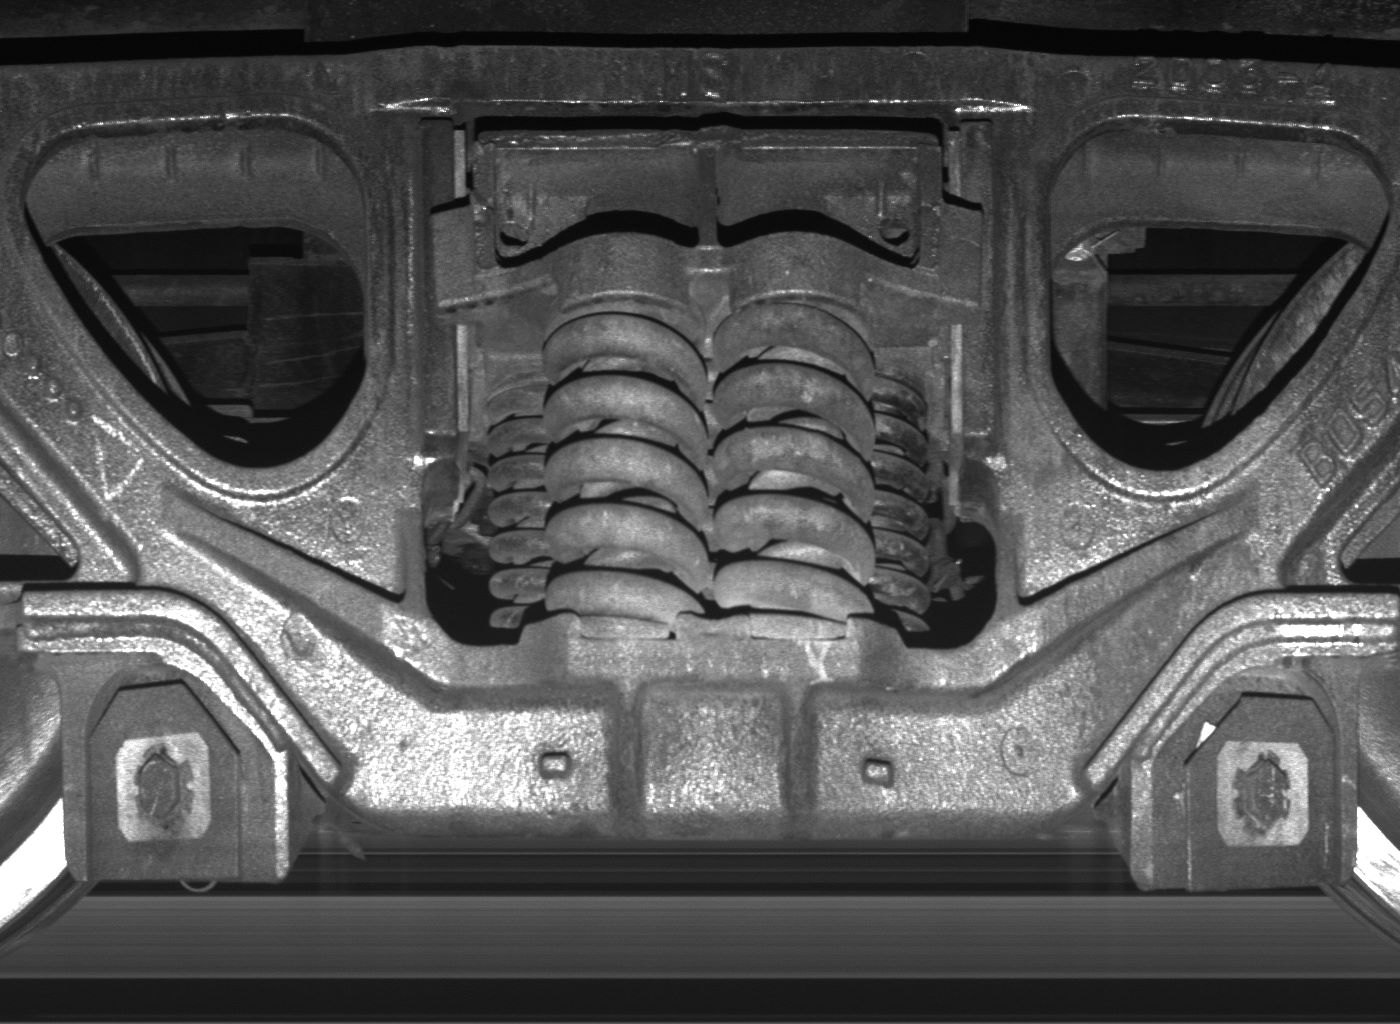normal: (66, 664, 292, 886), (1155, 663, 1357, 891)
